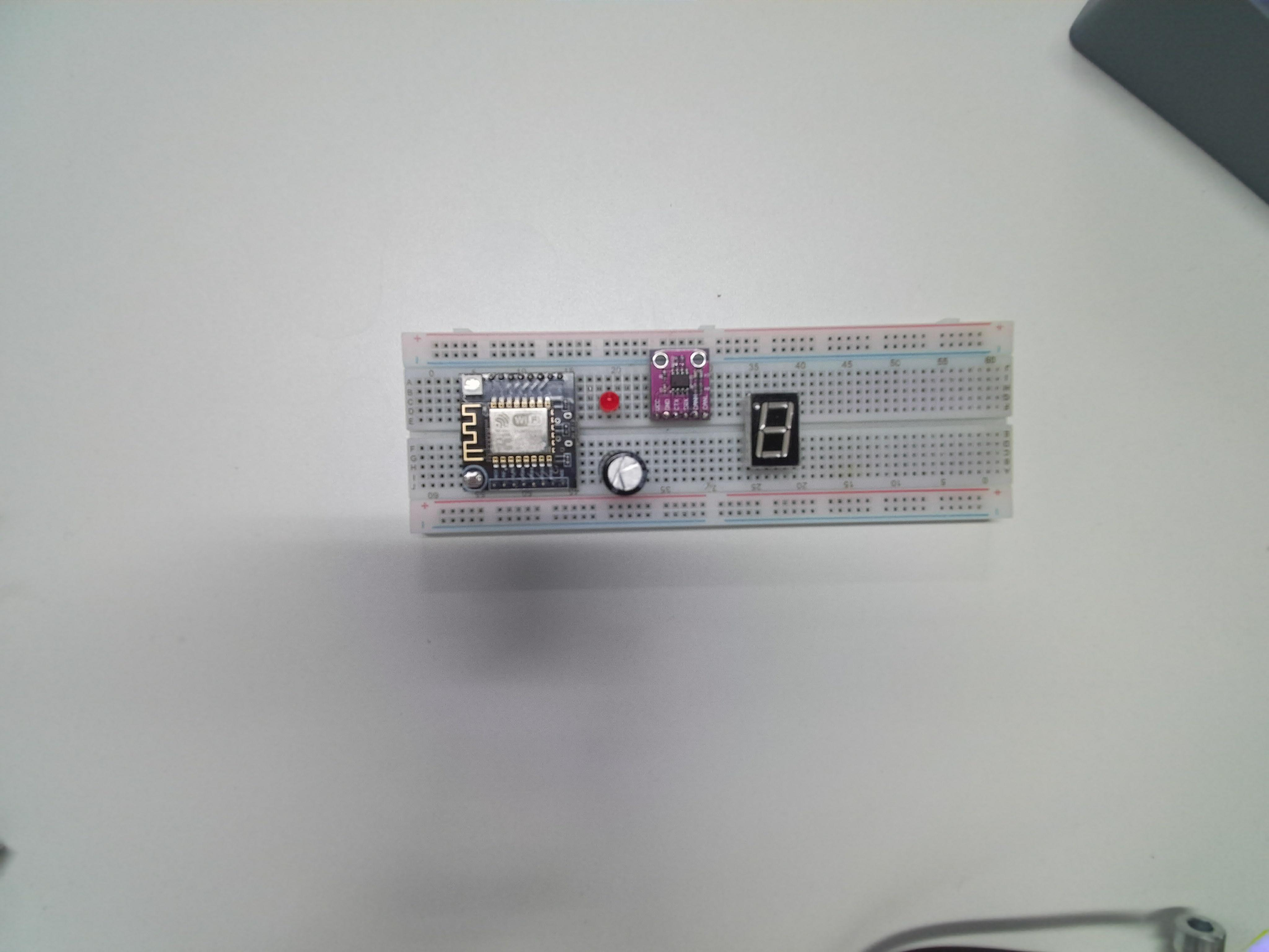base: (403, 320, 1019, 538)
capacitor: (601, 449, 647, 496)
digit-board: (749, 390, 803, 468)
esp: (459, 370, 578, 495)
purple-board: (649, 344, 713, 421)
red-led: (598, 388, 625, 416)
